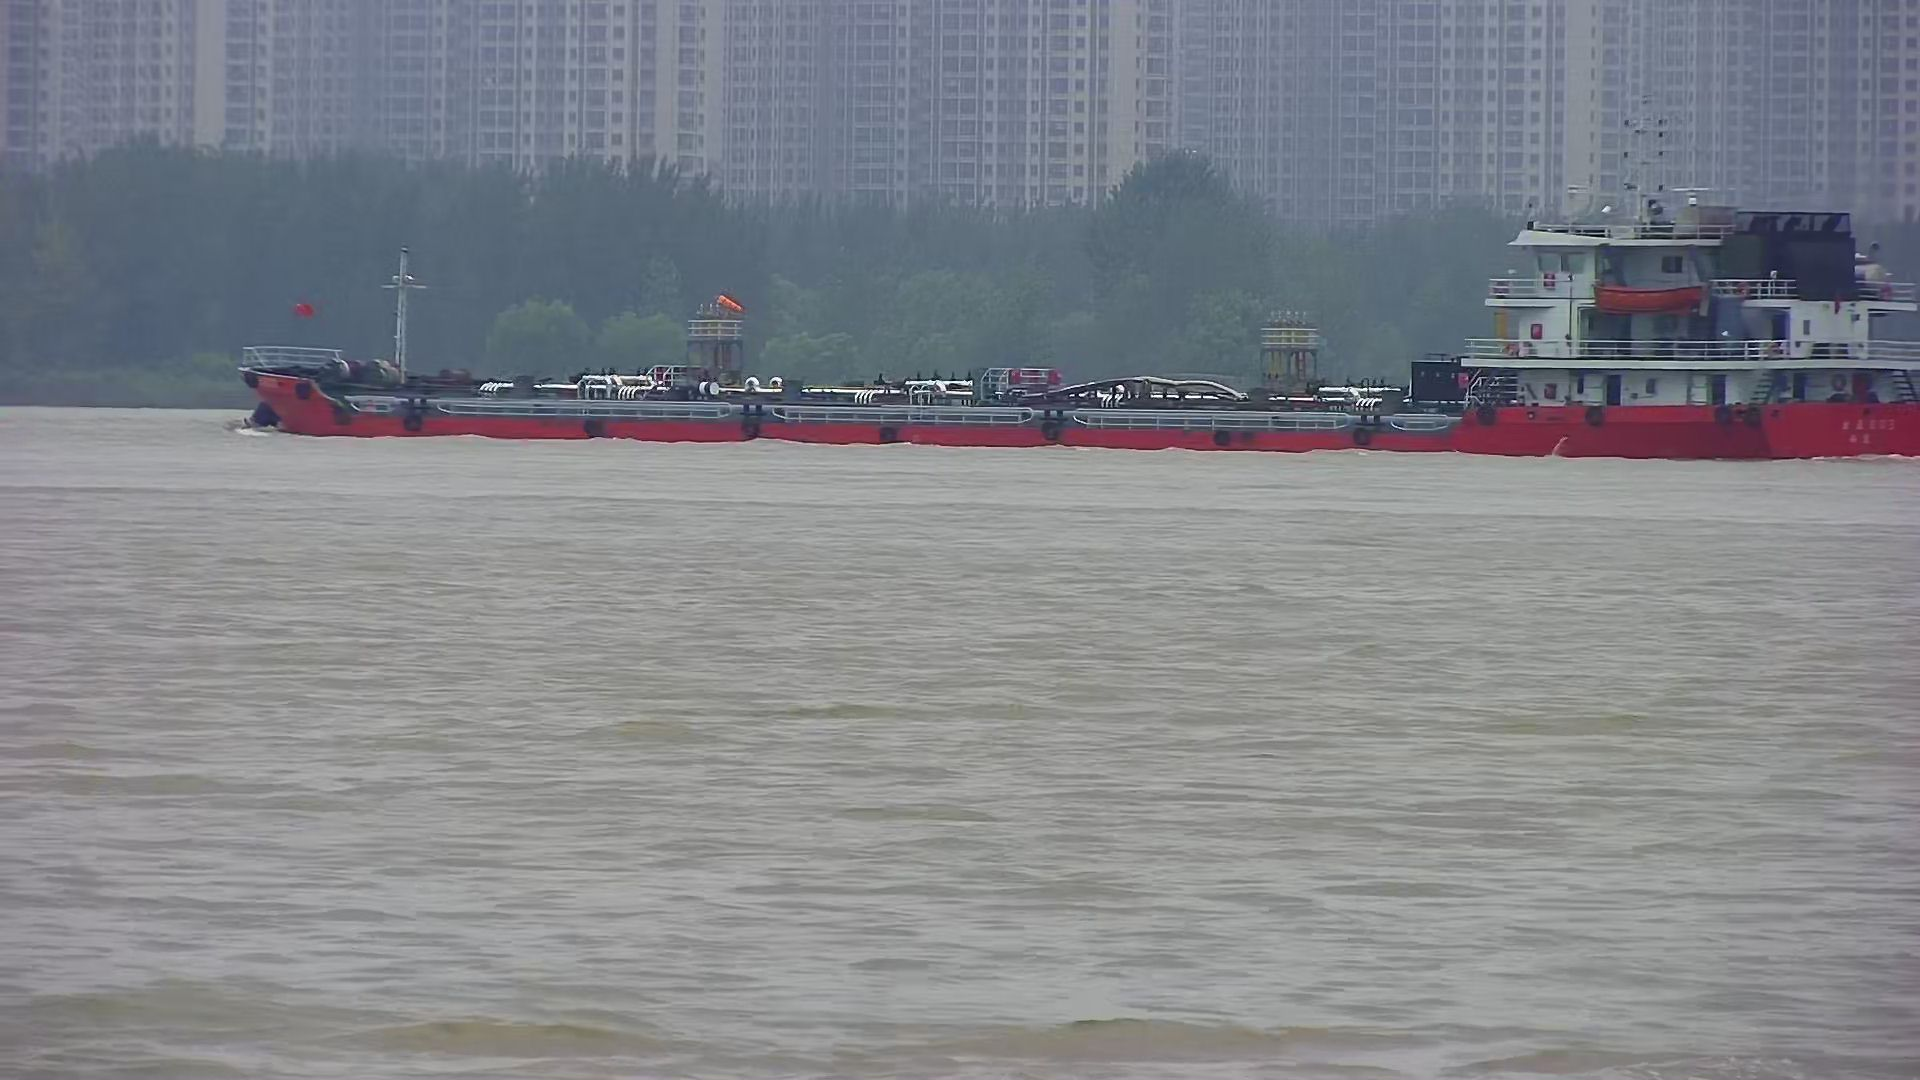ship: (225, 191, 1919, 477)
